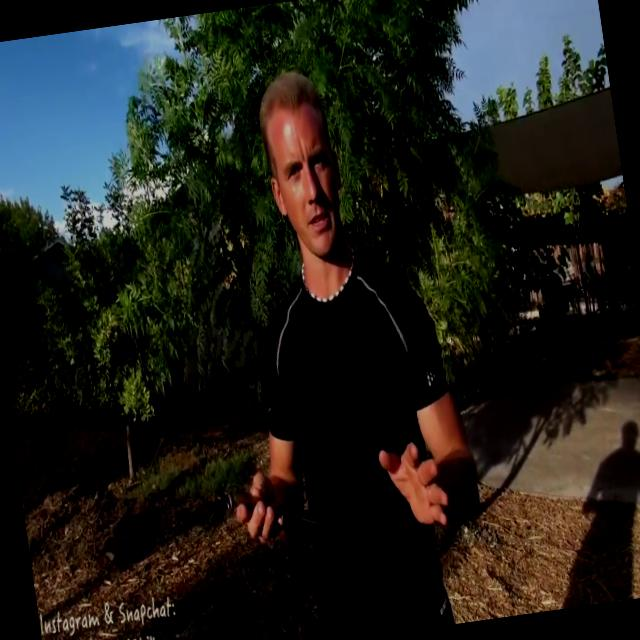knife: (222, 470, 342, 545)
